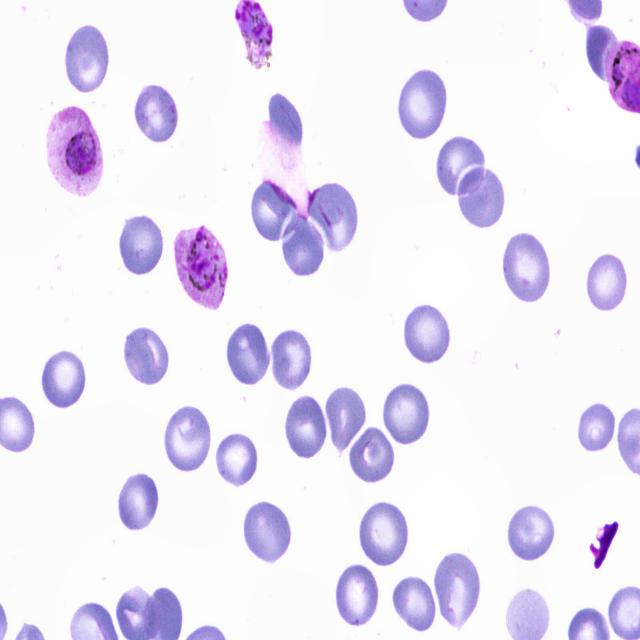difficult: (48, 106, 103, 194)
red blood cell: (396, 64, 451, 142), (357, 498, 412, 569), (434, 549, 481, 629), (380, 379, 432, 447), (308, 183, 360, 250), (502, 234, 553, 302), (456, 164, 508, 230), (242, 500, 295, 564), (165, 401, 212, 473), (284, 393, 330, 464), (224, 320, 272, 387), (437, 135, 487, 199), (403, 301, 452, 365), (66, 25, 111, 94), (248, 180, 296, 243), (327, 384, 368, 456), (280, 211, 324, 278), (118, 215, 166, 276), (508, 502, 556, 563), (348, 426, 398, 484), (134, 82, 180, 144), (335, 564, 380, 626), (41, 350, 87, 409), (124, 324, 168, 385), (270, 329, 314, 390), (392, 575, 435, 636), (585, 254, 629, 313), (117, 472, 161, 530), (585, 22, 626, 84), (215, 433, 260, 485), (577, 402, 618, 455), (268, 92, 304, 151)
schizont: (173, 222, 229, 311), (236, 0, 275, 66)
